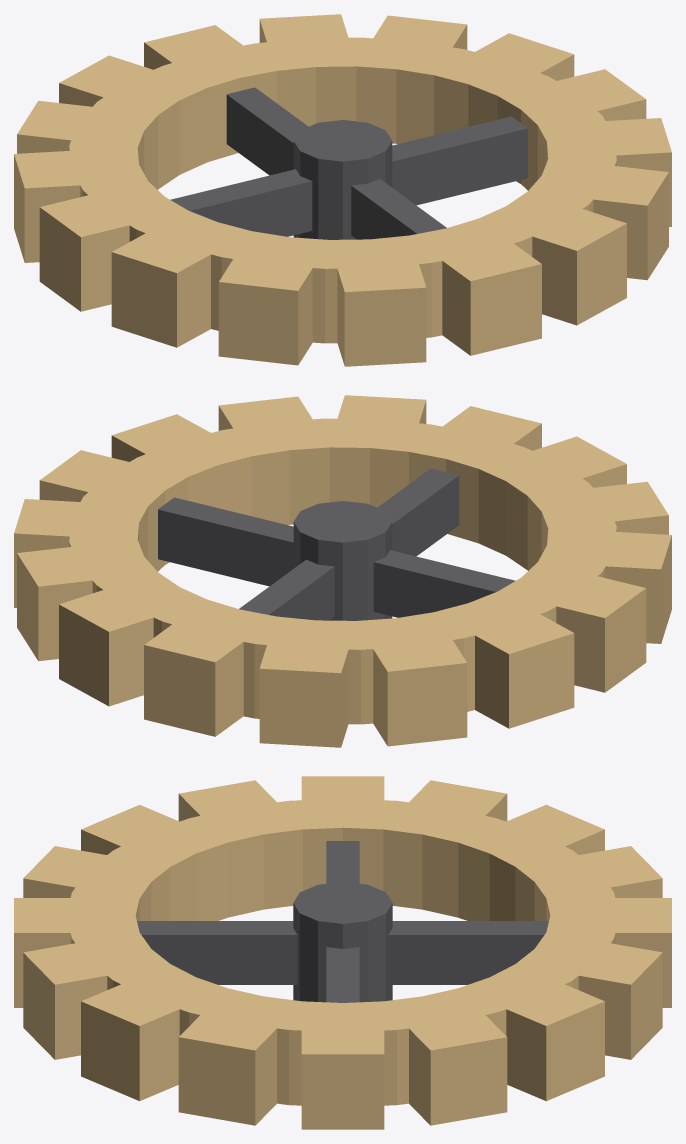
Rendered from Gear.fbx.
The picture shows the model from 3 angles, top to bottom: view 1: azimuth 30°, elevation 25°; view 2: azimuth 150°, elevation 25°; view 3: azimuth 270°, elevation 25°; orthographic projection.
Parts seen in each view (by area): view 1: Gear; view 2: Gear; view 3: Gear.
Part boxes in pixels (x1,y1,x2,y2): Gear: [14, 14, 671, 366]; Gear: [14, 395, 671, 747]; Gear: [14, 776, 671, 1129].
Size of the model in its own units: 2.38 by 0.4 by 2.38.
